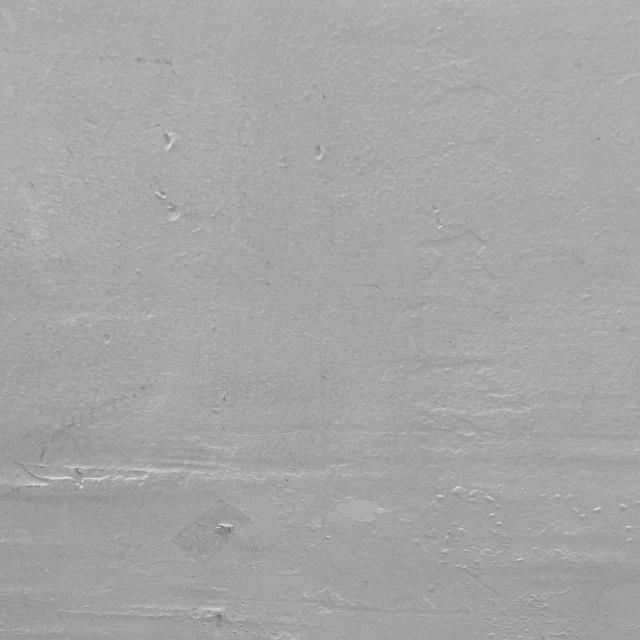rough and patchy surface: (0, 7, 637, 636)
